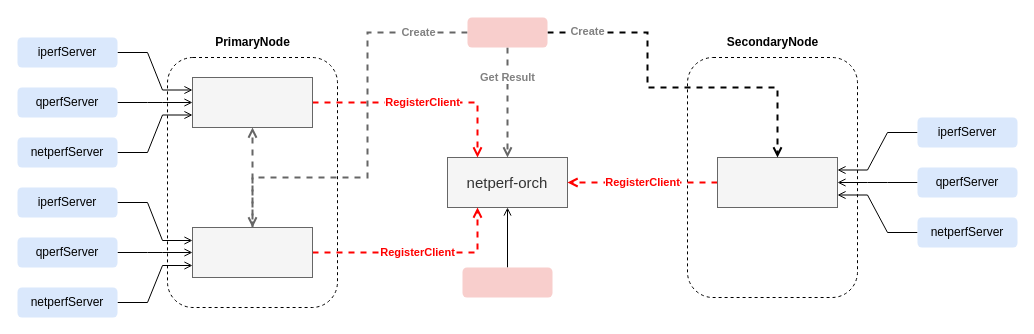
The diagram is 1034 pixels wide and 334 high, and some of its shapes have lost their labels. Here are the shapes that lost their labels. From the top down, the box of each, then its label:
(467, 17, 547, 47): launch.go
(192, 76, 312, 128): netperf-w1
(716, 156, 838, 208): netperf-w3
(192, 226, 312, 278): netperf-w2
(462, 267, 552, 297): RPC Server
